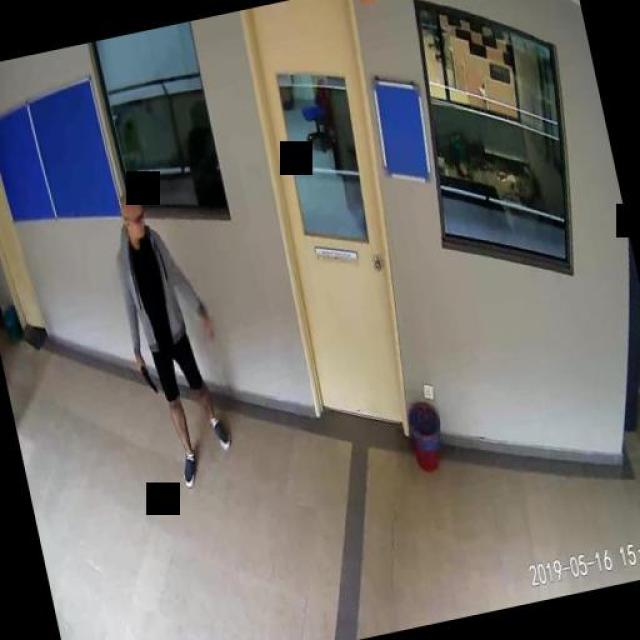gun: (134, 355, 155, 394)
